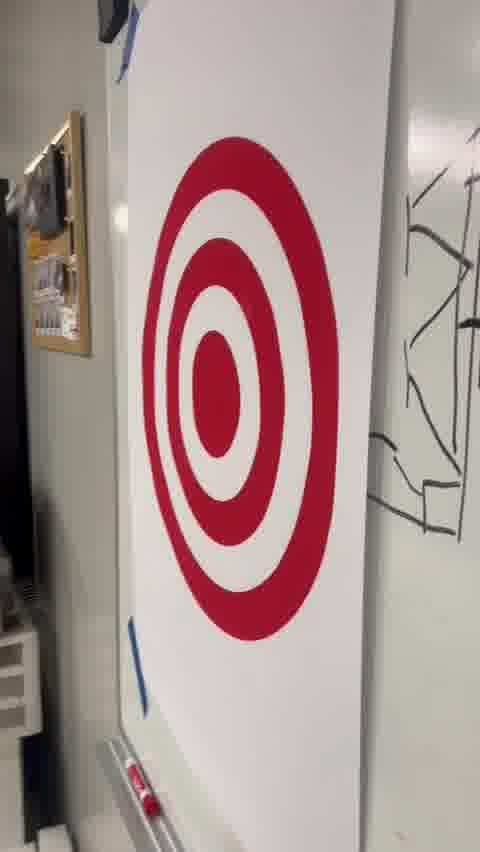target_red: (140, 136, 338, 642)
